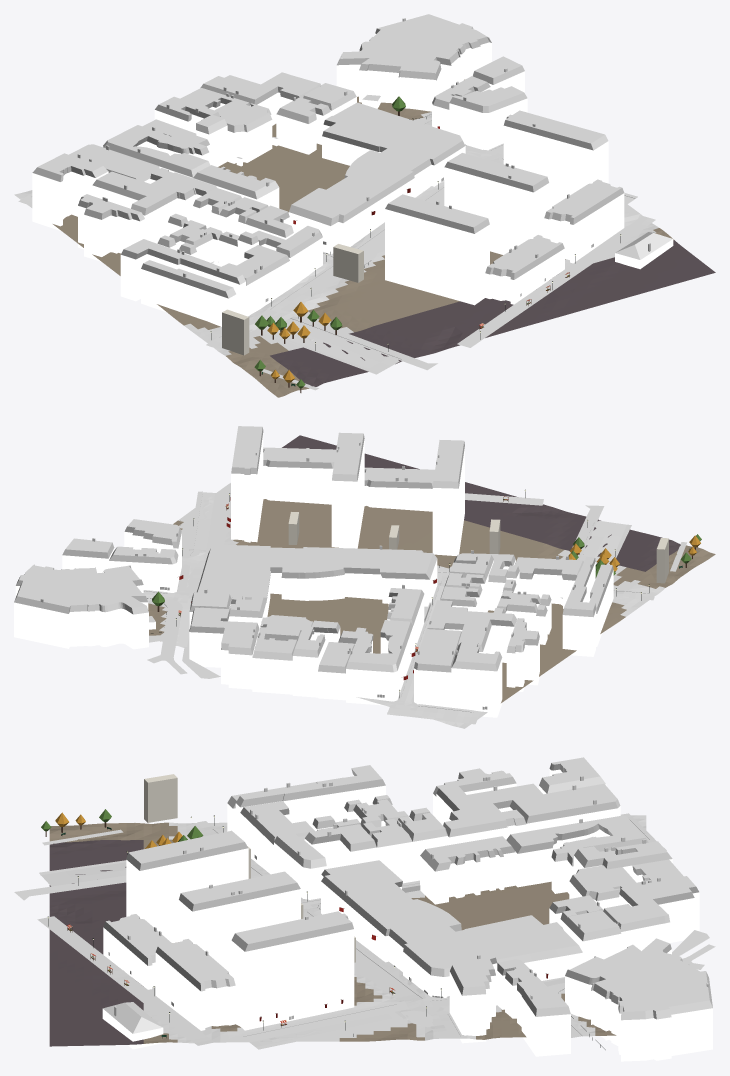
File: zone_J2.glb
3 views of the same model, one above another, from view 1: azimuth 30°, elevation 25°; view 2: azimuth 150°, elevation 25°; view 3: azimuth 270°, elevation 25° (orthographic). The views are drawn at different scales.
Visible parts, largest first — view 1: zone_J2_batiments, zone_J2_terrain, zone_J2_sol_NOCOL, zone_J2_decor_NOCOL; view 2: zone_J2_batiments, zone_J2_terrain, zone_J2_sol_NOCOL, zone_J2_decor_NOCOL; view 3: zone_J2_batiments, zone_J2_terrain, zone_J2_sol_NOCOL, zone_J2_decor_NOCOL.
Part boxes in pixels (box(x1,y1,x2,y2)): zone_J2_batiments: box(32, 14, 673, 355); zone_J2_terrain: box(14, 79, 715, 397); zone_J2_sol_NOCOL: box(18, 118, 655, 390); zone_J2_decor_NOCOL: box(210, 96, 621, 392); zone_J2_batiments: box(14, 426, 668, 717); zone_J2_terrain: box(147, 435, 715, 728); zone_J2_sol_NOCOL: box(143, 491, 686, 724); zone_J2_decor_NOCOL: box(147, 489, 701, 697); zone_J2_batiments: box(102, 757, 712, 1061); zone_J2_terrain: box(49, 815, 646, 1046); zone_J2_sol_NOCOL: box(14, 813, 715, 1049); zone_J2_decor_NOCOL: box(41, 809, 605, 1049).
Size of the model in its own units: 229 by 44.01 by 247.
